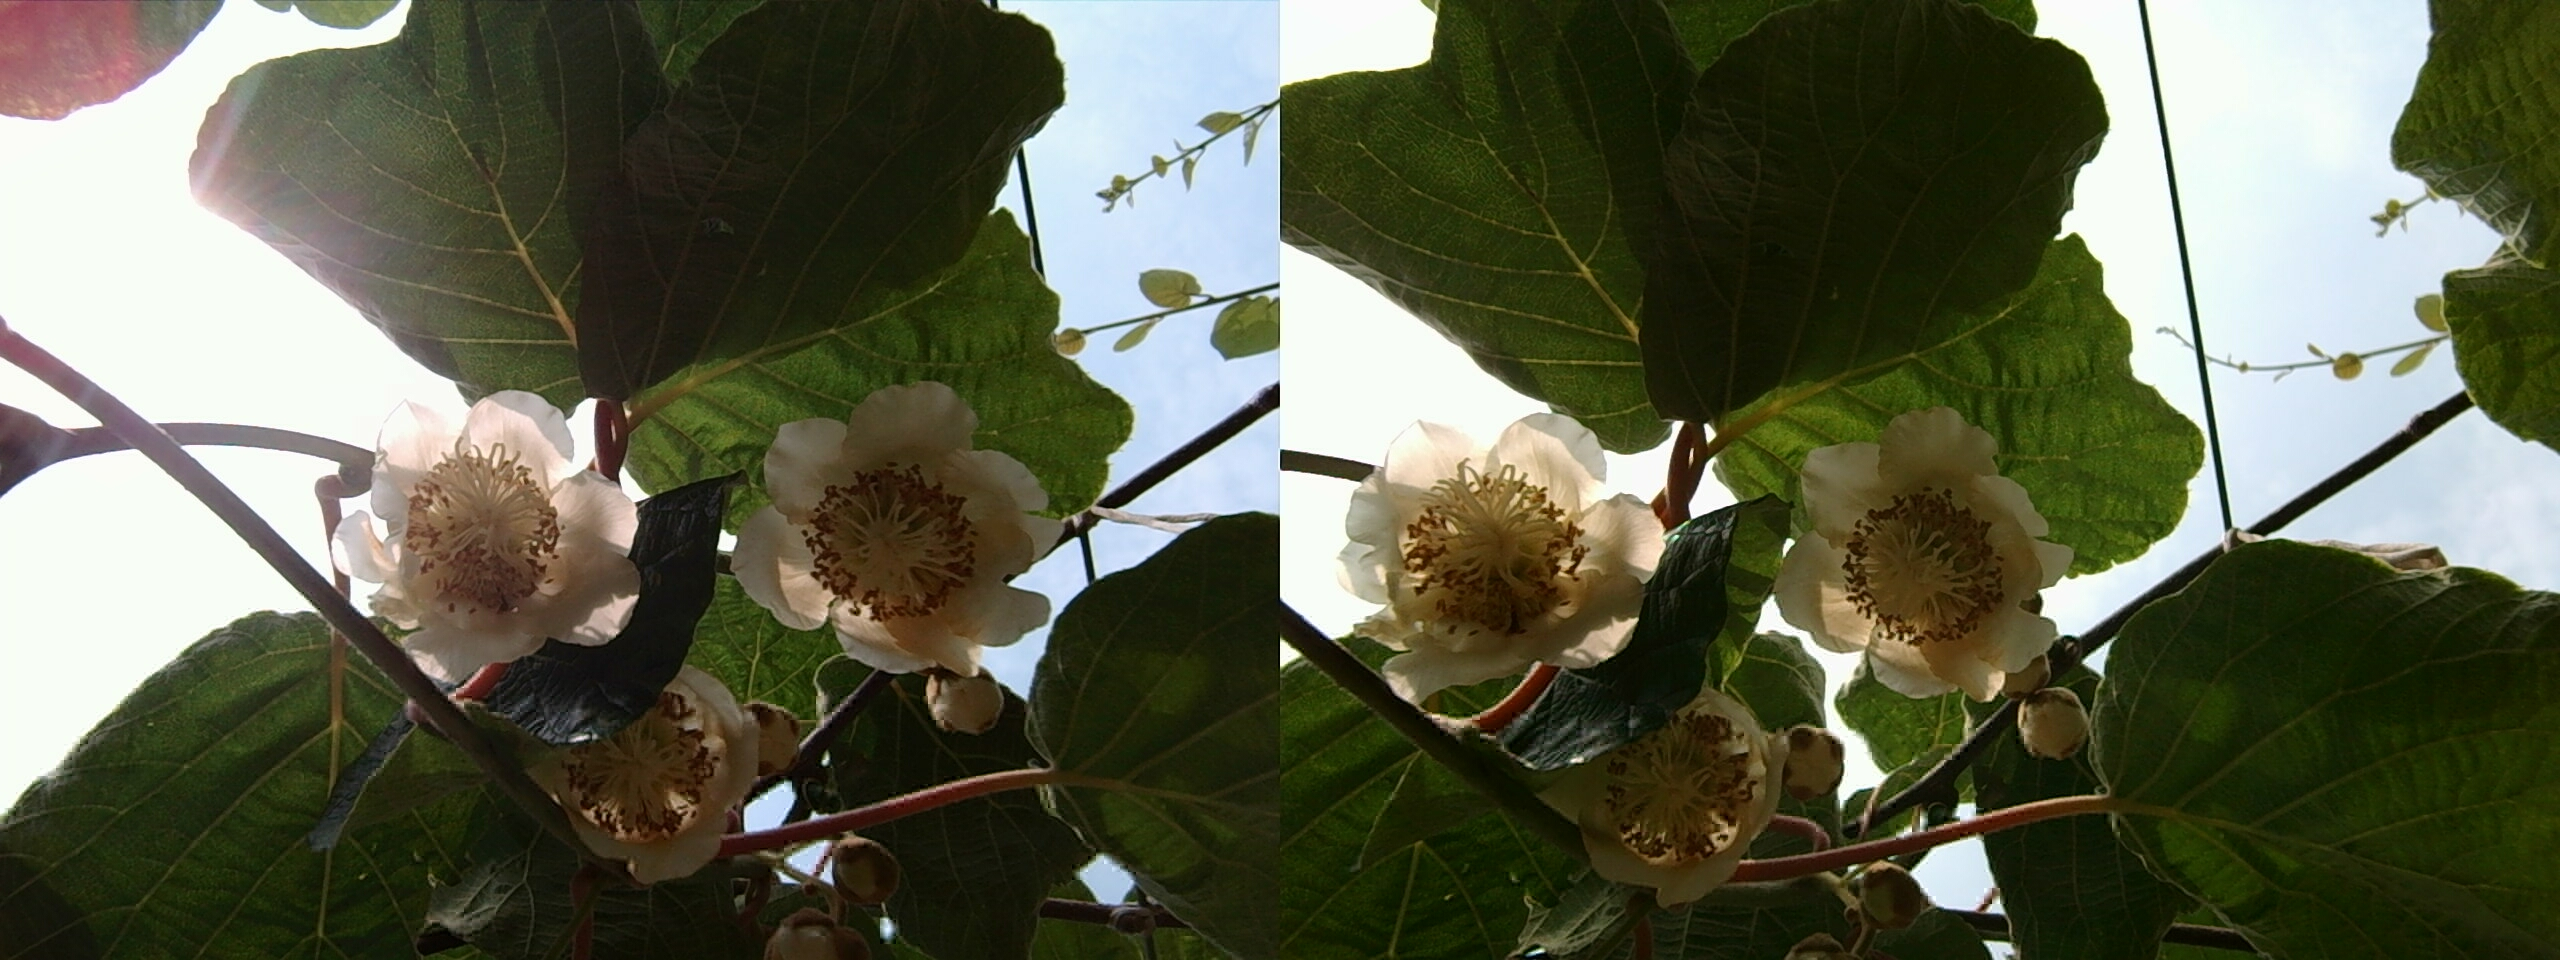flower: (740, 376, 1051, 671), (1331, 397, 1647, 681), (338, 379, 632, 664), (1783, 403, 2060, 689), (1541, 679, 1801, 895), (513, 664, 767, 872)
